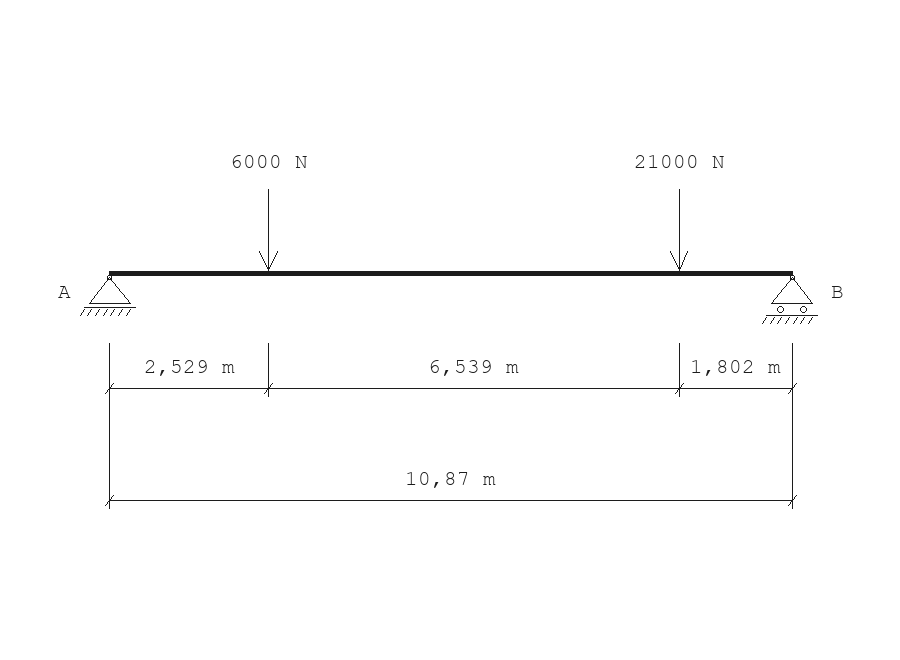pin_support: (80, 275, 136, 316)
point_load: (259, 189, 278, 271), (670, 189, 688, 271)
roller_support: (762, 275, 818, 324)
